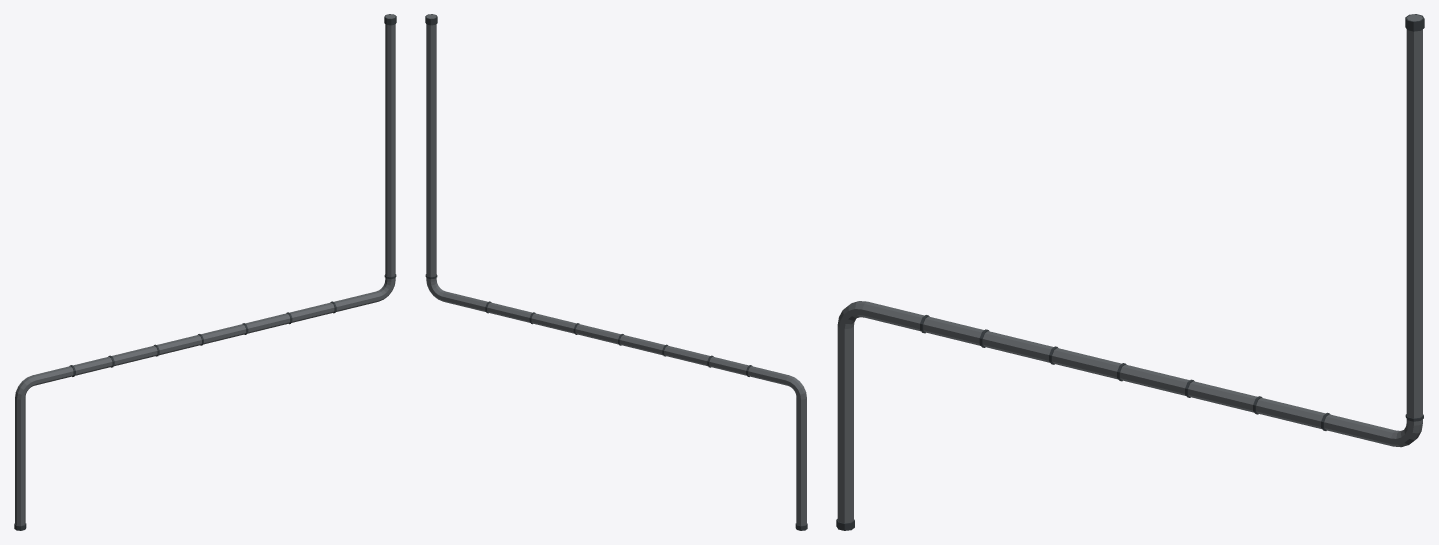
The model's file is WallDecor_05.fbx.
3 views of the same model, side by side, from view 1: azimuth 30°, elevation 25°; view 2: azimuth 150°, elevation 25°; view 3: azimuth 330°, elevation 25° (orthographic). The views are drawn at different scales.
Parts seen in each view (by area): view 1: WallDecor_05; view 2: WallDecor_05; view 3: WallDecor_05.
Part boxes in pixels (bbox=[...]): WallDecor_05: bbox=[14, 14, 396, 530]; WallDecor_05: bbox=[425, 14, 807, 530]; WallDecor_05: bbox=[836, 14, 1424, 530].
Bounding box in the file's own units: 944 × 1000 × 25.03.
